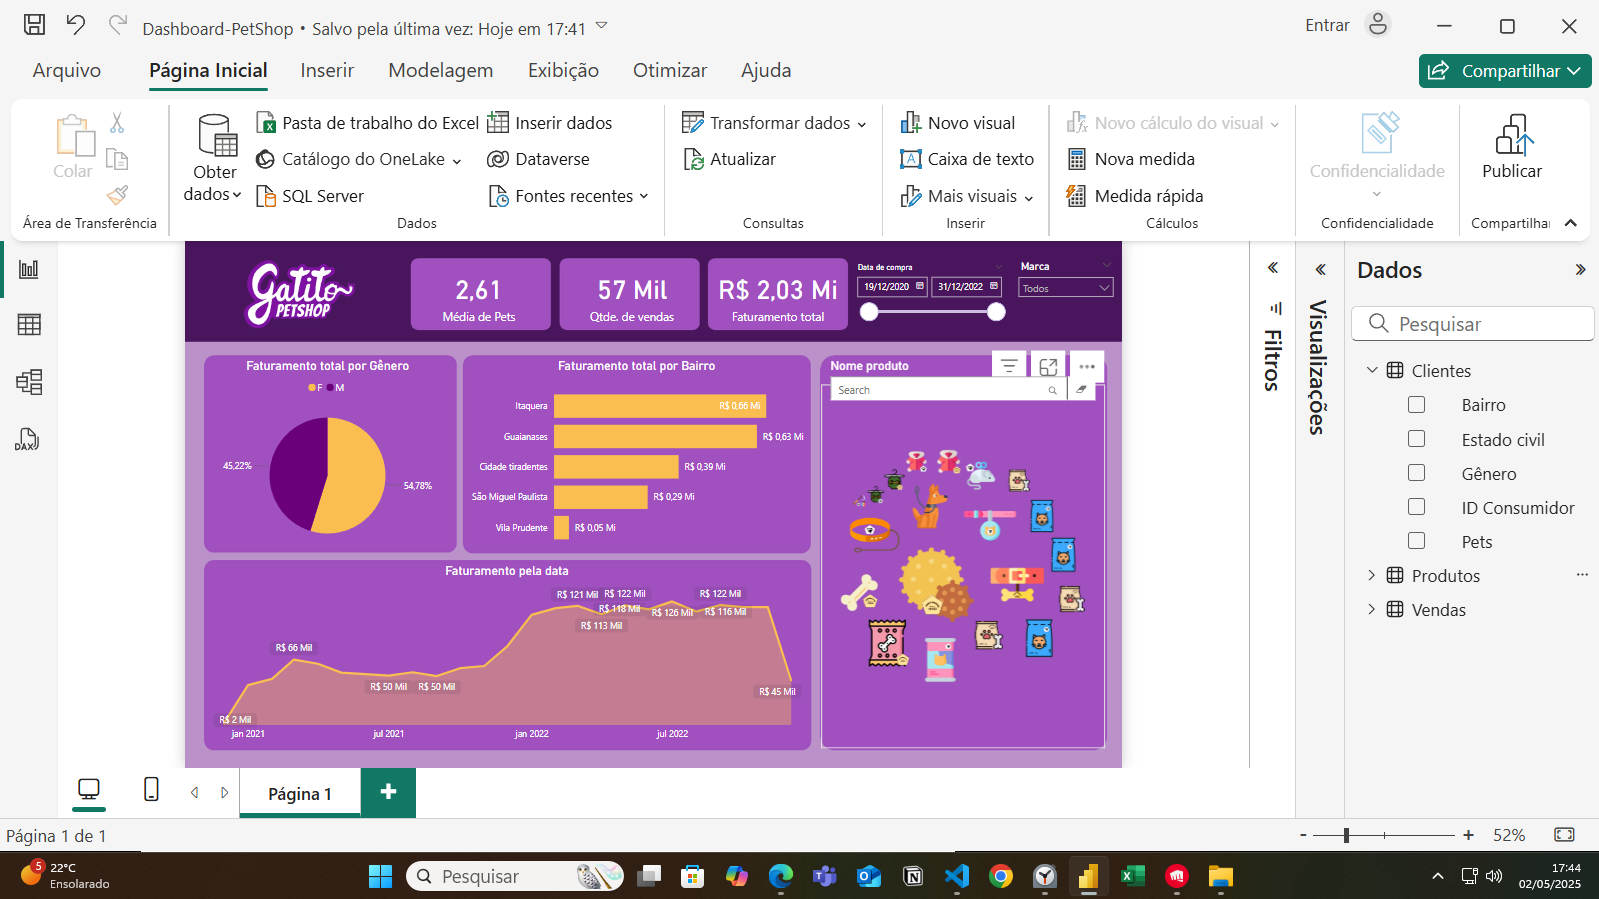

The dashboard page shown, as its layout file describes it:
{"tool":"powerbi","page":{"name":"Página 1","canvas":[1280,720],"ordinal":0},"visuals":[{"type":"card","fields":{"Values":["Avg(Clientes.Pets)"]},"box":[311.4,25.6,182.6,98.8],"z":0},{"type":"card","fields":{"Values":["Sum(Vendas.Quantidade)"]},"box":[530.2,29.1,162.3,91.7],"z":1000},{"type":"card","fields":{"Values":["Vendas.Faturamento total"]},"box":[699.5,21.2,223.7,105.8],"z":2000},{"type":"pieChart","fields":{"Category":["Clientes.Gênero"],"Y":["Vendas.Faturamento total"]},"box":[23.5,161,343.2,270.3],"z":3000},{"type":"clusteredBarChart","fields":{"Category":["Clientes.Bairro"],"Y":["Vendas.Faturamento total"]},"box":[377.5,161.5,477.4,269.5],"z":4000},{"type":"areaChart","title":"Faturamento pela data","fields":{"Category":["Vendas.Data de compra.Variation.Hierarquia de datas.Ano","Vendas.Data de compra.Variation.Hierarquia de datas.Trimestre","Vendas.Data de compra.Variation.Hierarquia de datas.Mês","Vendas.Data de compra.Variation.Hierarquia de datas.Dia"],"Y":["Vendas.Faturamento total"]},"box":[25.6,441.4,829.3,250.9],"z":5000},{"type":"ImageGrid_FC5183B9_926C_45E0_B5F7_0CE9EAF1DA9B","fields":{"ImageURL":["Produtos.Url img"]},"box":[870,196.3,387.9,496],"z":6000},{"type":"textFilter25A4896A83E0487089E2B90C9AE57C8A","fields":{"field":["Produtos.Nome produto"]},"box":[877,161.5,371.7,60.4],"z":7000},{"type":"slicer","fields":{"Values":["Produtos.Marca"]},"box":[1129.6,21.2,149.3,89.3],"z":8000},{"type":"slicer","fields":{"Values":["Vendas.Data de compra"]},"box":[906.2,25.9,223.3,95.2],"z":9000}]}

Visuals, with their boxes on the page's 1280x720 design canvas (x1, y1, x2, y2). These are canvas units, not pixel positions in the 1599x899 screenshot, which may show the page scaled, cropped or inside an application window:
card - Avg(Clientes.Pets): detection(311, 26, 494, 124)
card - Sum(Vendas.Quantidade): detection(530, 29, 692, 121)
card - Vendas.Faturamento total: detection(700, 21, 923, 127)
pieChart - Clientes.Gênero x Vendas.Faturamento total: detection(24, 161, 367, 431)
clusteredBarChart - Clientes.Bairro x Vendas.Faturamento total: detection(378, 162, 855, 431)
"Faturamento pela data" areaChart: detection(26, 441, 855, 692)
ImageGrid_FC5183B9_926C_45E0_B5F7_0CE9EAF1DA9B - Produtos.Url img: detection(870, 196, 1258, 692)
textFilter25A4896A83E0487089E2B90C9AE57C8A - Produtos.Nome produto: detection(877, 162, 1249, 222)
slicer - Produtos.Marca: detection(1130, 21, 1279, 110)
slicer - Vendas.Data de compra: detection(906, 26, 1130, 121)
